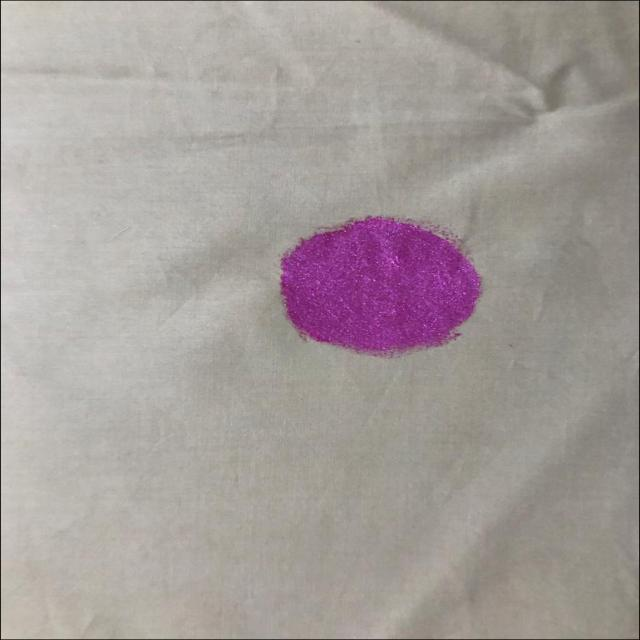Stain: (281, 216, 481, 355)
